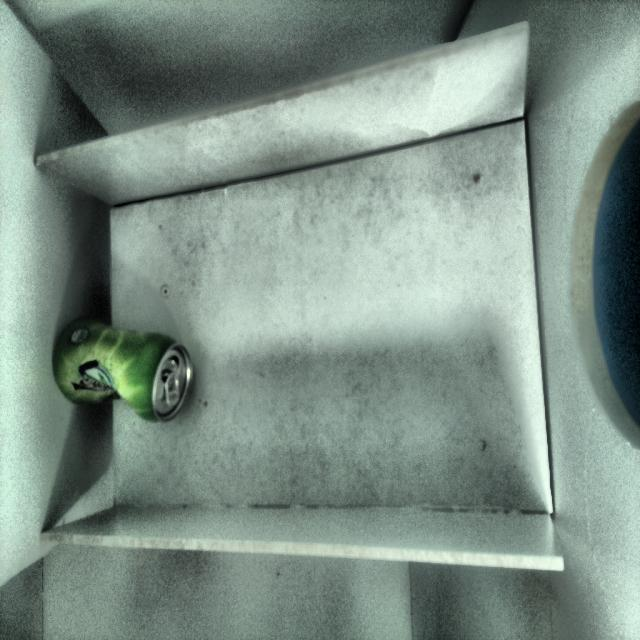Cans: (48, 304, 204, 436)
